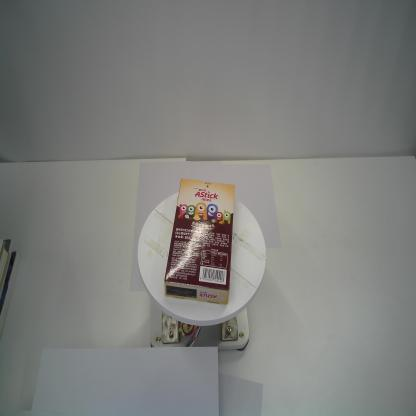Dessert: (163, 178, 235, 305)
